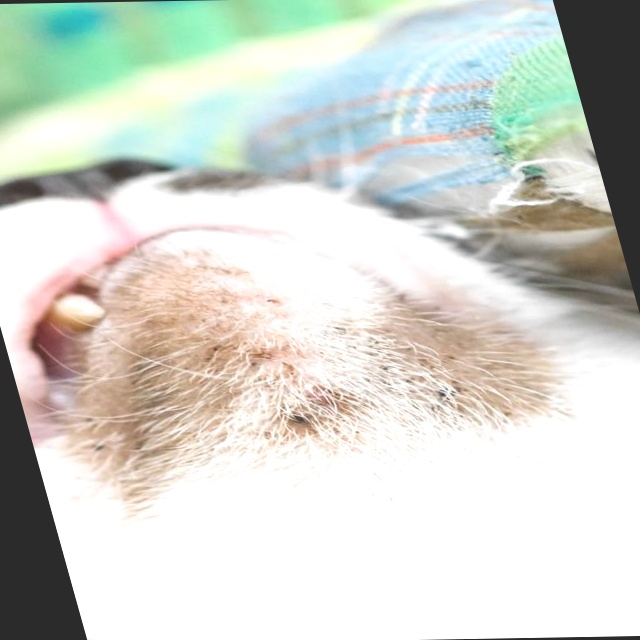acne: (216, 338, 381, 450)
